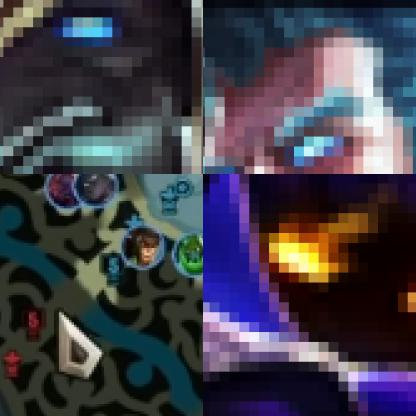Cassiopeia: (119, 223, 167, 271)
Nasus: (0, 0, 202, 173)
Senna: (73, 174, 120, 210)
Sion: (43, 174, 91, 211)
Veigar: (203, 174, 415, 415)
Zac: (171, 231, 202, 278)
Zilean: (203, 0, 415, 173)
